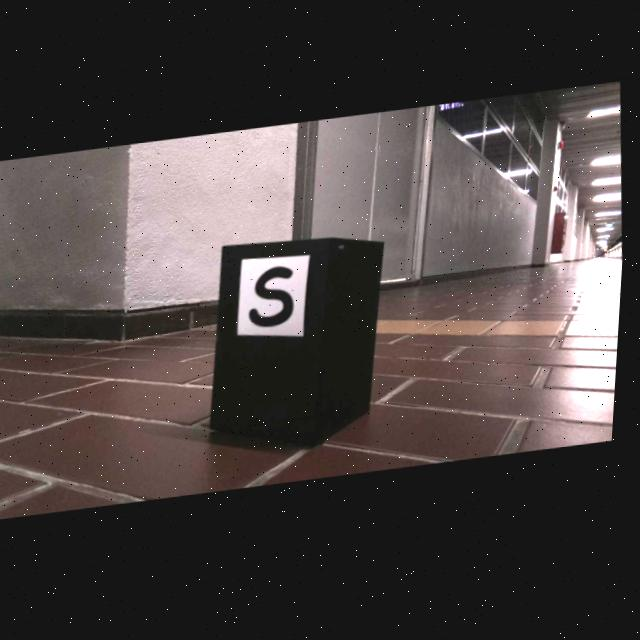S: (252, 270, 297, 332)
